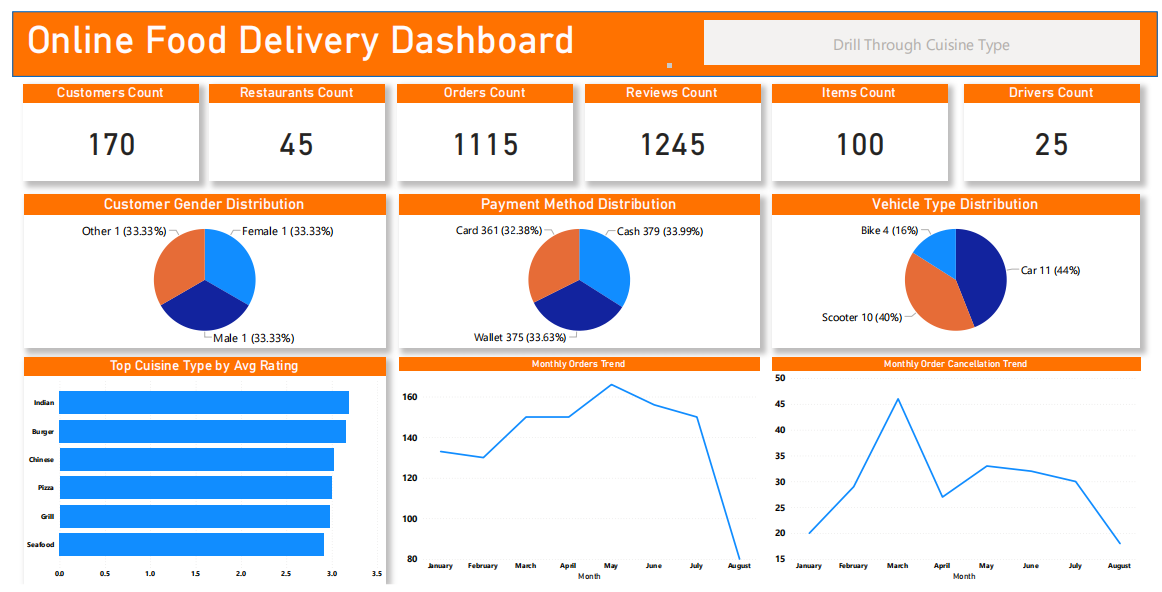

The dashboard page shown, as its layout file describes it:
{"tool":"powerbi","page":{"name":"Main ","canvas":[2000,1000],"ordinal":0},"visuals":[{"type":"shape","box":[0,0,2000,113],"z":0},{"type":"textbox","title":"Online Food Delivery Dashboard","box":[20,9.1,1137.4,92.7],"z":1000},{"type":"card","title":"Customers Count","fields":{"Values":["CountNonNull(Customers.customer_id)"]},"box":[19.2,126.9,305.8,169.2],"z":2000},{"type":"card","title":"Restaurants Count","fields":{"Values":["CountNonNull(Restaurants.restaurant_id)"]},"box":[344.2,126.9,305.8,169.2],"z":3000},{"type":"card","title":"Reviews Count","fields":{"Values":["Count(Reviews.review_id)"]},"box":[1000,126.9,305.8,169.2],"z":4000},{"type":"card","title":"Orders Count","fields":{"Values":["CountNonNull(Orders.order_id)"]},"box":[673.1,126.9,305.8,169.2],"z":5000},{"type":"card","title":"Items Count","fields":{"Values":["CountNonNull(MenuItems.item_id)"]},"box":[1326.9,126.9,305.8,169.2],"z":6000},{"type":"card","title":"Drivers Count","fields":{"Values":["CountNonNull(DeliveryDrivers.driver_id)"]},"box":[1663.5,126.9,305.8,169.2],"z":7000},{"type":"pieChart","title":"Customer Gender Distribution","fields":{"Category":["Customers.gender"],"Y":["Count(Customers.gender)"]},"box":[20,320,630.9,267.3],"z":8000},{"type":"pieChart","title":"Payment Method Distribution","fields":{"Y":["CountNonNull(Orders.payment_method)"],"Category":["Orders.payment_method"]},"box":[674.5,320,630.9,267.3],"z":9000},{"type":"pieChart","title":"Vehicle Type Distribution","fields":{"Category":["DeliveryDrivers.vehicle_type"],"Y":["CountNonNull(DeliveryDrivers.vehicle_type)"]},"box":[1327.3,320,641.8,267.3],"z":10000},{"type":"clusteredBarChart","title":"Top Cuisine Type by Avg Rating","fields":{"Y":["Avg(Reviews.rating)"],"Category":["Restaurants.cuisine_type"]},"box":[20,603.6,630.9,396.4],"z":11000},{"type":"lineChart","title":"Monthly Orders Trend","fields":{"Category":["Orders.order_date.Variation.Date Hierarchy.Month","Orders.order_date.Variation.Date Hierarchy.Day"],"Y":["CountNonNull(Orders.order_id)"]},"box":[674.5,603.6,630.9,396.4],"z":12000},{"type":"lineChart","title":"Monthly Order Cancellation Trend","fields":{"Category":["Orders.order_date.Variation.Date Hierarchy.Month"],"Y":["Customers.Count of order_status for Cancelled"]},"box":[1327.3,603.6,643.6,396.4],"z":13000},{"type":"actionButton","box":[1208.9,15.6,760,77.8],"z":14000}]}

Visuals, with their boxes in screenshot pixels (x1, y1, x2, y2), scaled from the page's 2000x1000 canvas onto the 1162x592 screenshot:
shape: BBox(0, 0, 1161, 67)
"Online Food Delivery Dashboard" textbox: BBox(12, 5, 672, 60)
"Customers Count" card: BBox(11, 75, 189, 175)
"Restaurants Count" card: BBox(200, 75, 378, 175)
"Reviews Count" card: BBox(581, 75, 759, 175)
"Orders Count" card: BBox(391, 75, 569, 175)
"Items Count" card: BBox(771, 75, 949, 175)
"Drivers Count" card: BBox(966, 75, 1144, 175)
"Customer Gender Distribution" pieChart: BBox(12, 189, 378, 348)
"Payment Method Distribution" pieChart: BBox(392, 189, 758, 348)
"Vehicle Type Distribution" pieChart: BBox(771, 189, 1144, 348)
"Top Cuisine Type by Avg Rating" clusteredBarChart: BBox(12, 357, 378, 591)
"Monthly Orders Trend" lineChart: BBox(392, 357, 758, 591)
"Monthly Order Cancellation Trend" lineChart: BBox(771, 357, 1145, 591)
actionButton: BBox(702, 9, 1144, 55)
